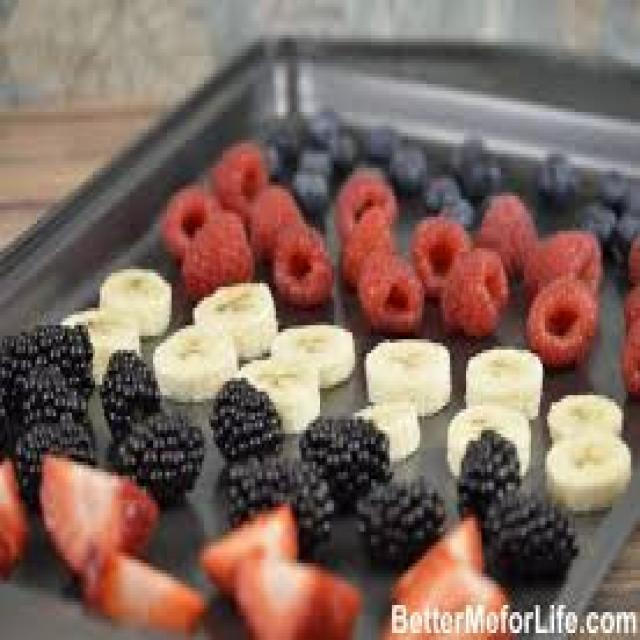organic waste: (35, 448, 160, 577), (79, 535, 202, 637), (232, 549, 359, 637), (195, 504, 294, 605), (0, 328, 83, 444), (104, 406, 204, 500), (385, 563, 510, 637), (296, 413, 389, 507), (350, 472, 441, 563), (11, 409, 90, 511), (484, 486, 572, 574), (387, 514, 480, 595), (522, 266, 594, 364), (178, 206, 252, 298), (190, 273, 276, 350), (362, 336, 448, 412), (234, 353, 318, 430), (58, 301, 137, 381), (438, 242, 508, 332), (151, 322, 239, 392), (448, 402, 528, 479), (464, 339, 540, 420), (208, 374, 280, 458), (542, 437, 628, 507), (519, 228, 603, 298), (475, 186, 538, 276), (457, 427, 517, 521), (355, 245, 422, 329), (100, 346, 158, 441), (271, 217, 332, 304), (276, 454, 332, 546), (248, 178, 304, 270), (98, 262, 170, 332), (272, 318, 352, 381), (329, 164, 399, 234), (408, 213, 471, 290), (352, 395, 420, 465), (542, 388, 622, 444), (26, 322, 90, 392), (216, 448, 278, 518), (158, 186, 220, 256), (338, 203, 389, 287), (209, 140, 264, 217), (0, 448, 26, 574), (538, 150, 580, 203), (571, 196, 612, 241), (285, 164, 327, 207), (387, 140, 427, 182), (362, 122, 408, 158), (616, 315, 638, 388), (596, 161, 631, 206), (454, 154, 498, 189), (417, 168, 457, 206), (299, 105, 339, 140), (608, 206, 638, 252), (267, 116, 299, 158), (296, 140, 332, 175), (441, 192, 473, 224), (329, 126, 357, 157), (619, 280, 638, 325), (260, 136, 280, 178), (626, 231, 638, 283)
